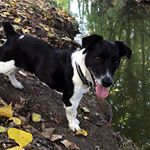puppy: (59, 31, 135, 139)
